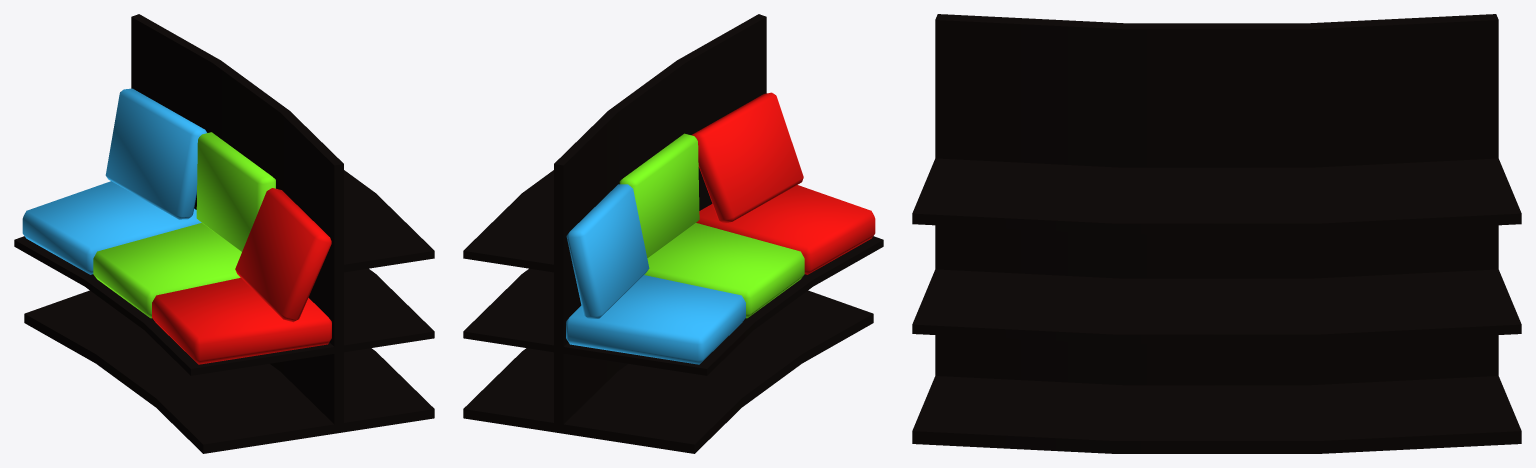
Rendered from BanBliothèque_Basique.FBX.
3 renders of one model, left to right at view 1: azimuth 30°, elevation 25°; view 2: azimuth 150°, elevation 25°; view 3: azimuth 270°, elevation 25°, orthographic. The views are drawn at different scales.
Parts seen in each view (by area): view 1: Box001; view 2: Box001; view 3: Box001.
Boxes of the visible parts, bbox=[...] form: Box001: bbox=[14, 14, 434, 453]; Box001: bbox=[463, 14, 883, 453]; Box001: bbox=[912, 14, 1521, 453].
Size of the model in its own units: 82.99 by 90.06 by 135.
